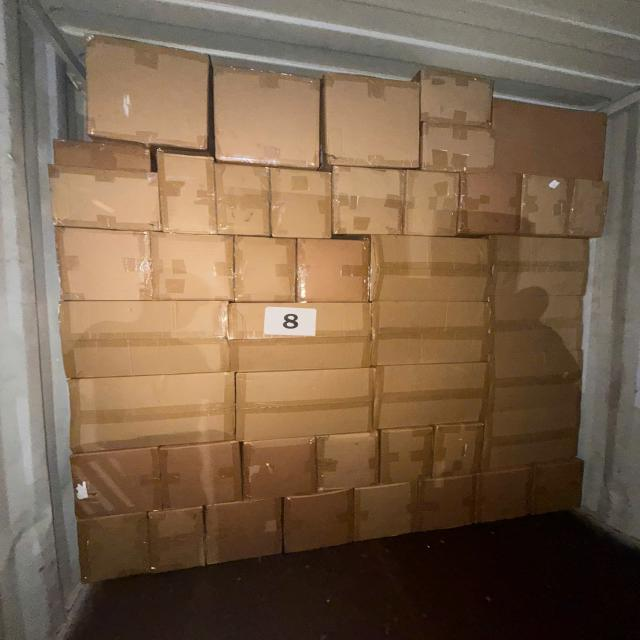Carton: (82, 30, 212, 153), (59, 297, 231, 380), (66, 373, 235, 454), (213, 65, 324, 172), (236, 369, 375, 445), (226, 306, 374, 372), (322, 72, 419, 170), (495, 98, 611, 179), (370, 296, 492, 366), (51, 224, 157, 304), (369, 237, 491, 306), (371, 364, 491, 434), (476, 400, 586, 473), (51, 158, 162, 230), (480, 230, 590, 298), (145, 228, 240, 306), (69, 445, 164, 521), (158, 440, 248, 512), (486, 292, 587, 356), (489, 347, 582, 414), (74, 511, 154, 584), (417, 64, 498, 130), (205, 498, 283, 566), (332, 166, 404, 237), (159, 150, 218, 236), (295, 240, 369, 306), (282, 487, 354, 554), (242, 439, 317, 503), (271, 169, 334, 242), (418, 119, 497, 177), (356, 479, 426, 543), (236, 233, 299, 303), (51, 136, 156, 176), (461, 173, 524, 238), (318, 428, 382, 491), (216, 164, 270, 238), (150, 509, 208, 576), (405, 172, 461, 240), (417, 475, 475, 533), (474, 469, 531, 525), (530, 460, 586, 517), (380, 424, 435, 482), (432, 421, 486, 477)
